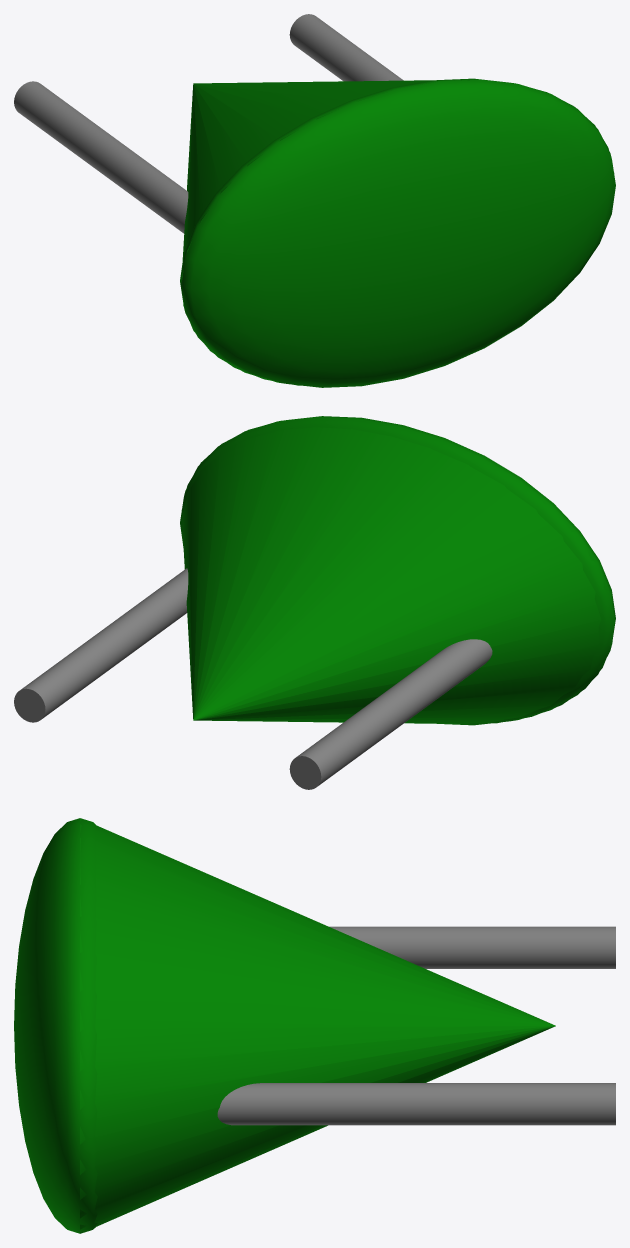
File: hector_head.dae
The picture shows the model from 3 angles, top to bottom: view 1: azimuth 30°, elevation 25°; view 2: azimuth 150°, elevation 25°; view 3: azimuth 270°, elevation 25°; orthographic projection. The views are drawn at different scales.
Visible parts, largest first — view 1: head_back, head_front, gun_left, gun_right; view 2: head_front, head_back, gun_left, gun_right; view 3: head_front, head_back, gun_right, gun_left.
Boxes of the visible parts, box(x1,y1,x2,y2) form: head_back: box(180, 78, 615, 387); head_front: box(181, 79, 614, 385); gun_left: box(14, 81, 188, 233); gun_right: box(289, 14, 403, 81); head_front: box(182, 417, 614, 723); head_back: box(180, 416, 615, 725); gun_left: box(289, 639, 492, 789); gun_right: box(14, 568, 188, 722); head_front: box(80, 818, 555, 1233); head_back: box(14, 818, 97, 1233); gun_right: box(217, 1083, 615, 1125); gun_left: box(329, 926, 615, 968).
Size of the model in its own units: 1.1 by 0.7 by 1.14.
